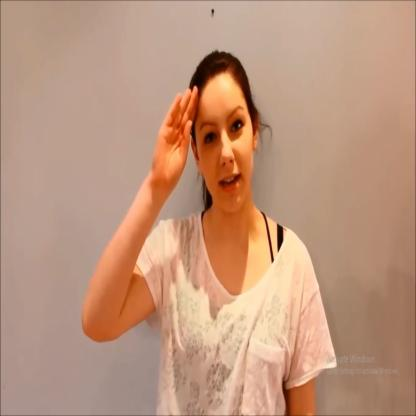Hello: (154, 43, 267, 232)
